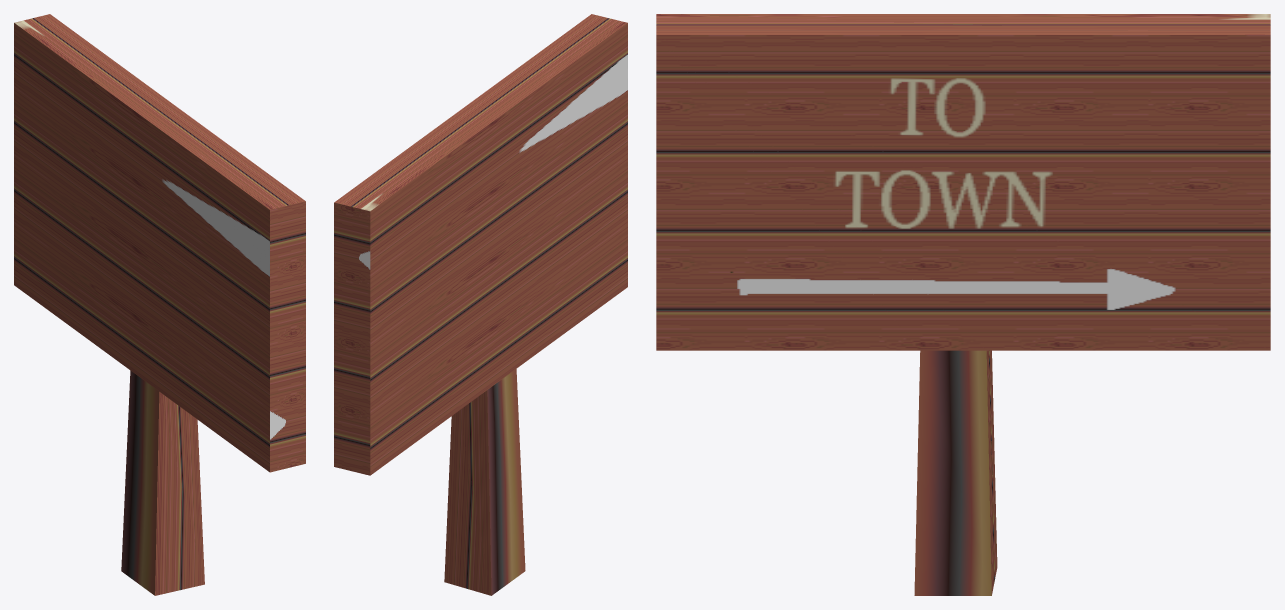
Rendered from roadsign.glb.
3 renders of one model, left to right at view 1: azimuth 30°, elevation 25°; view 2: azimuth 150°, elevation 25°; view 3: azimuth 270°, elevation 25°, orthographic. The views are drawn at different scales.
Visible parts, largest first — view 1: Cube; view 2: Cube; view 3: Cube.
Boxes of the visible parts, x1,y1,x2,y2 form: Cube: (14, 14, 305, 595); Cube: (334, 14, 627, 595); Cube: (656, 14, 1270, 595).
Bounding box in the file's own units: 0.061 × 0.55 × 0.55.
Materials: 1 (1 with a texture image).
